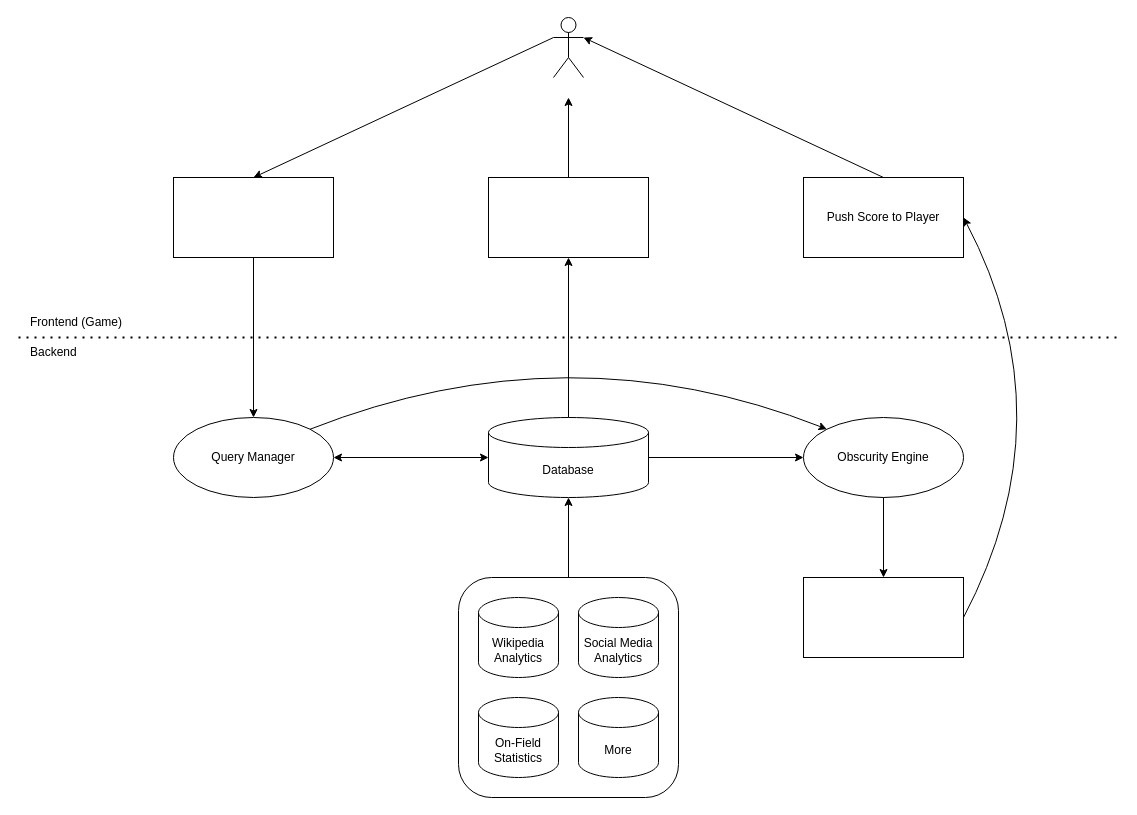
Some shapes in this 1137 by 815 pixel diagram are drawn without their labels. Here are the shapes that lost their labels. From the top down, the box of each, then its label:
(552, 16, 584, 78): Player
(172, 176, 334, 258): Get Inputs from Player
(488, 176, 648, 258): Push Trivia to Player
(802, 576, 964, 658): Convert Output to Score
